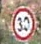limite 30: (10, 5, 36, 42)
